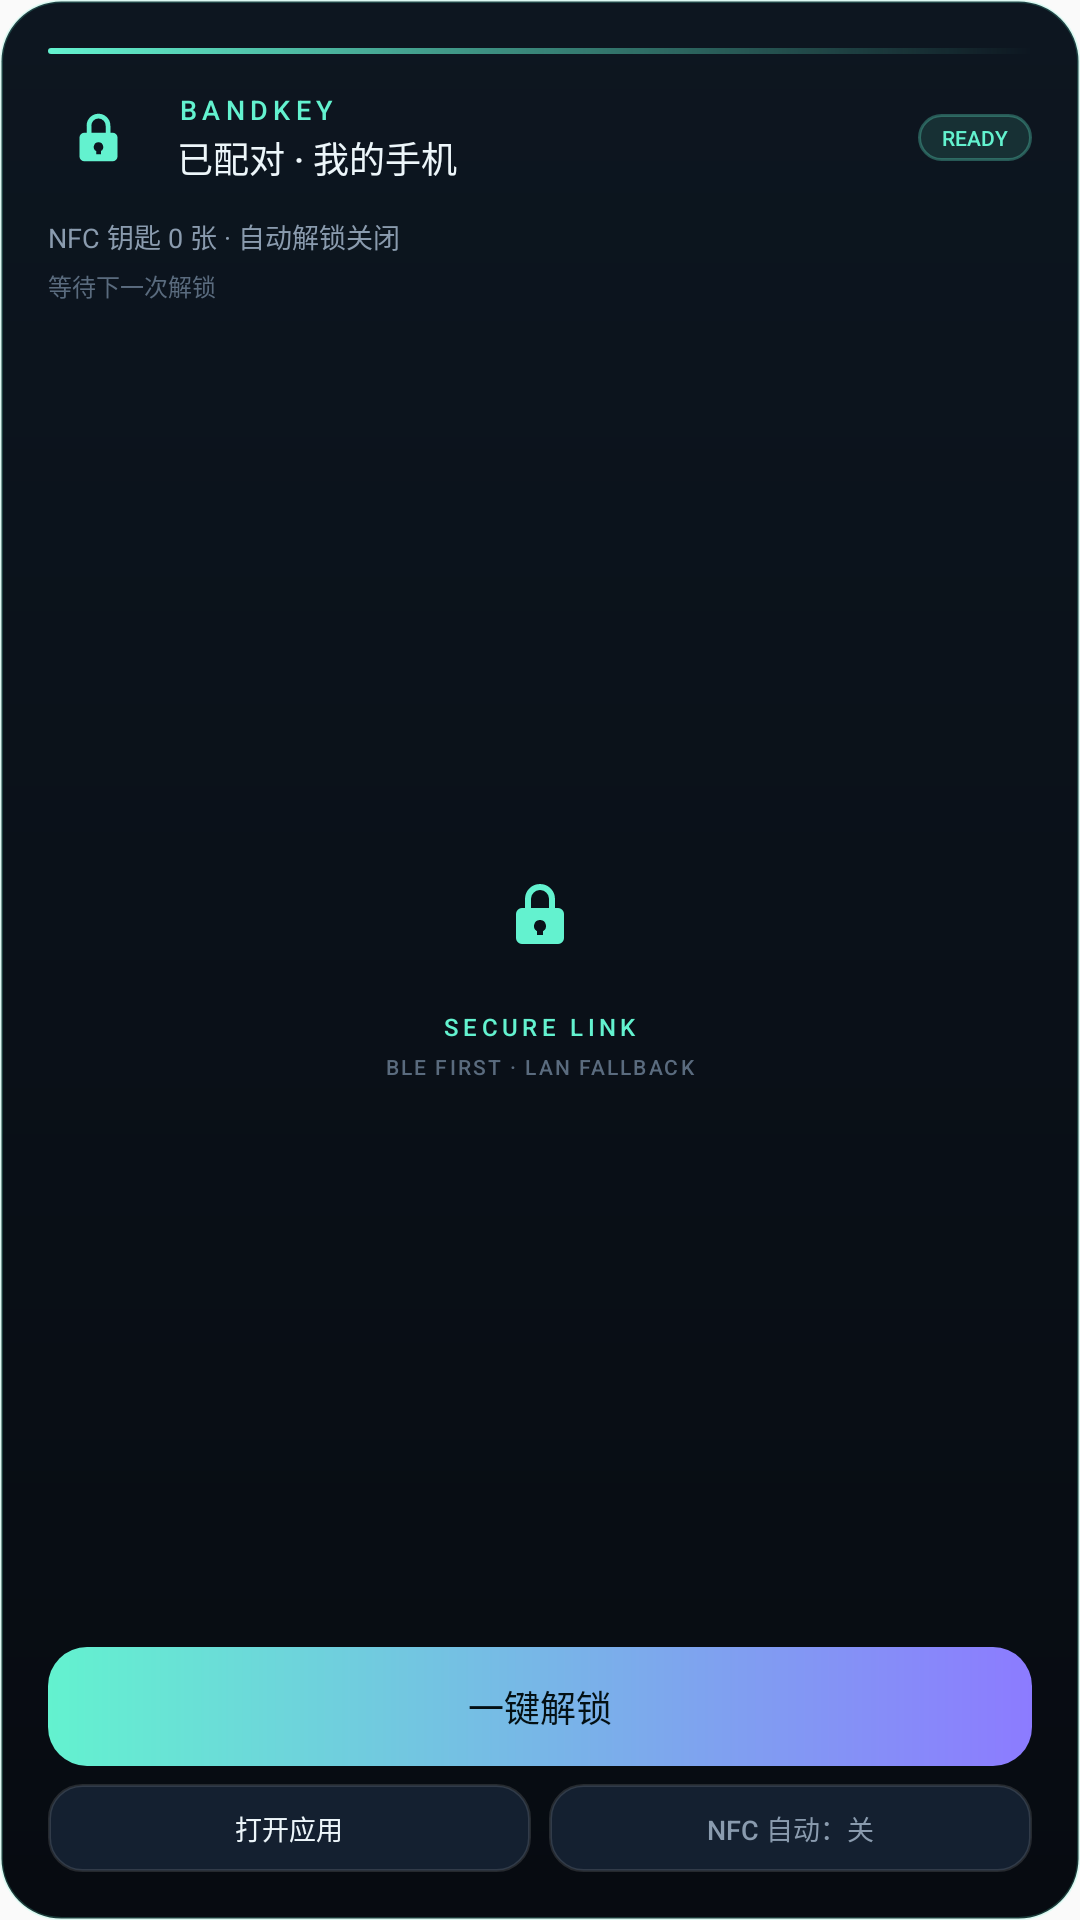

Point at icon controls on the screen. Image size 1080×1920, points as (x,y).
widget lock: (98,137), (540,914)
